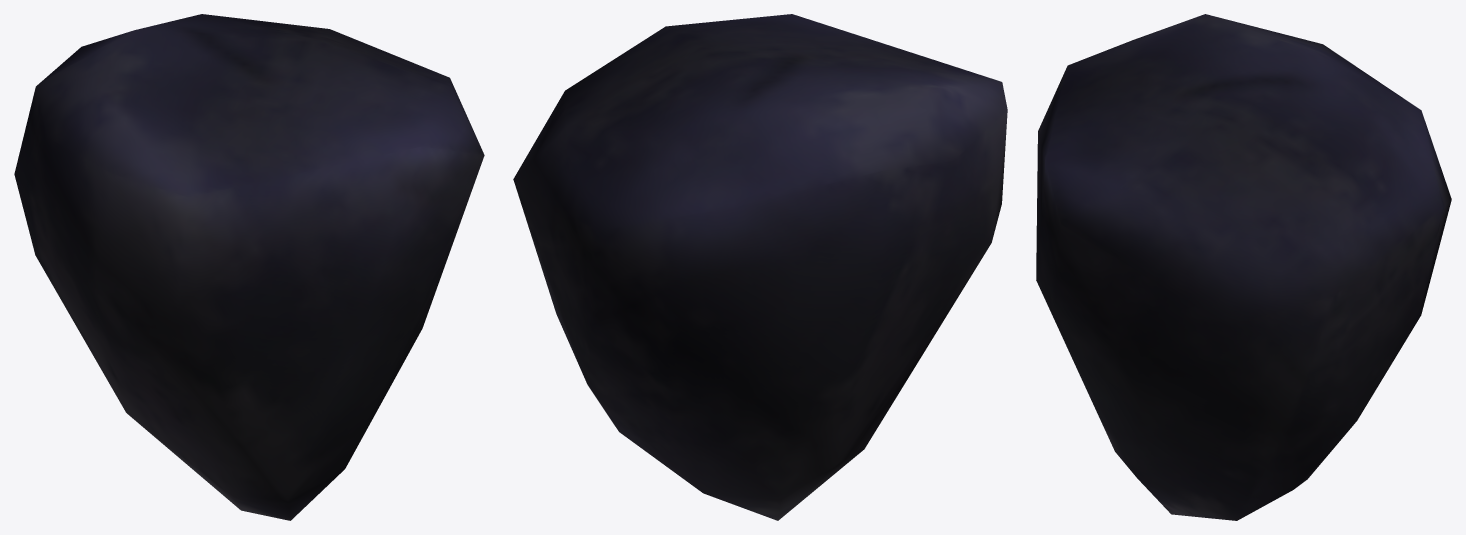
Rendered from SM_Gem_Obsidian_Piece_001.fbx.
3 views of the same model, side by side, from view 1: azimuth 30°, elevation 25°; view 2: azimuth 150°, elevation 25°; view 3: azimuth 270°, elevation 25° (orthographic). The views are drawn at different scales.
Parts seen in each view (by area): view 1: SM_Gem_Obsidian_Piece_001; view 2: SM_Gem_Obsidian_Piece_001; view 3: SM_Gem_Obsidian_Piece_001.
Part boxes in pixels (x1,y1,x2,y2): SM_Gem_Obsidian_Piece_001: [14, 14, 484, 520]; SM_Gem_Obsidian_Piece_001: [513, 14, 1007, 520]; SM_Gem_Obsidian_Piece_001: [1036, 14, 1451, 520].
Size of the model in its own units: 13.11 by 14.49 by 12.66.
